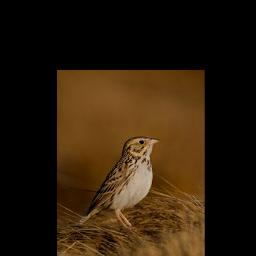Sparrow: (77, 135, 161, 231)
